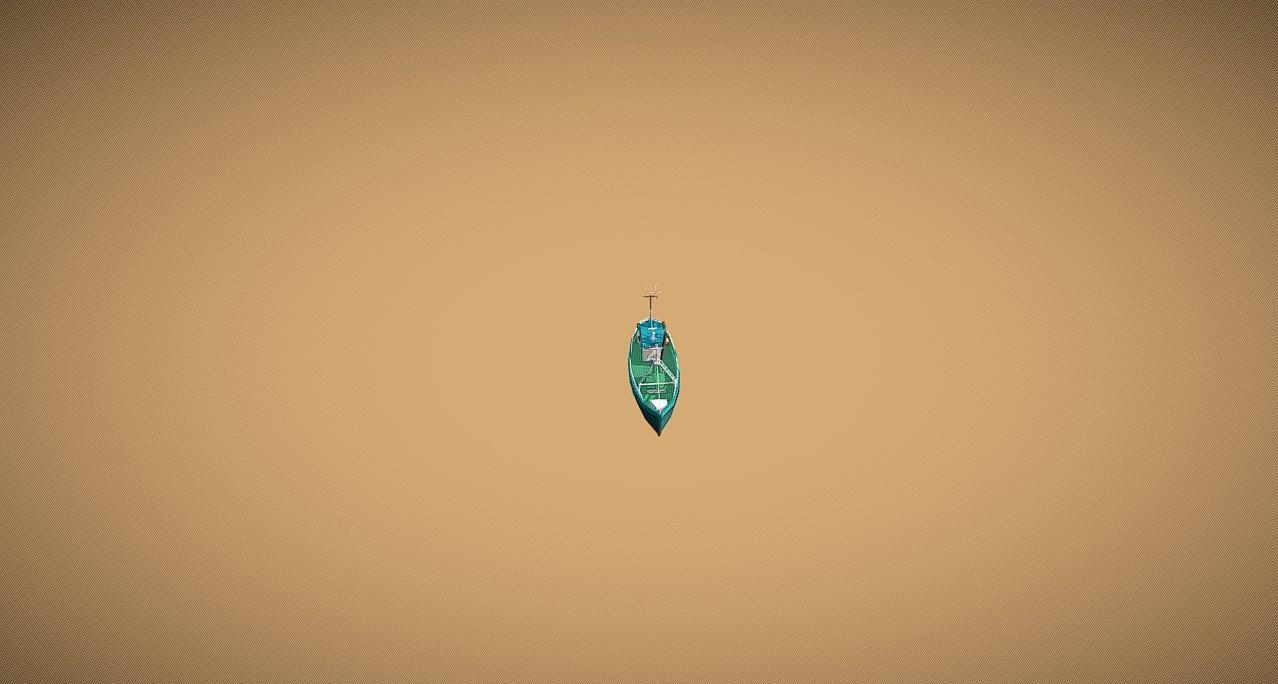Boat: (626, 284, 681, 436)
